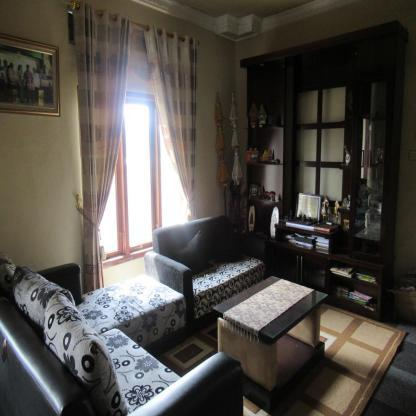bantal: (44, 294, 124, 413)
lukisan: (1, 34, 63, 119)
sova: (150, 219, 273, 308)
tanaman: (215, 271, 327, 387)
